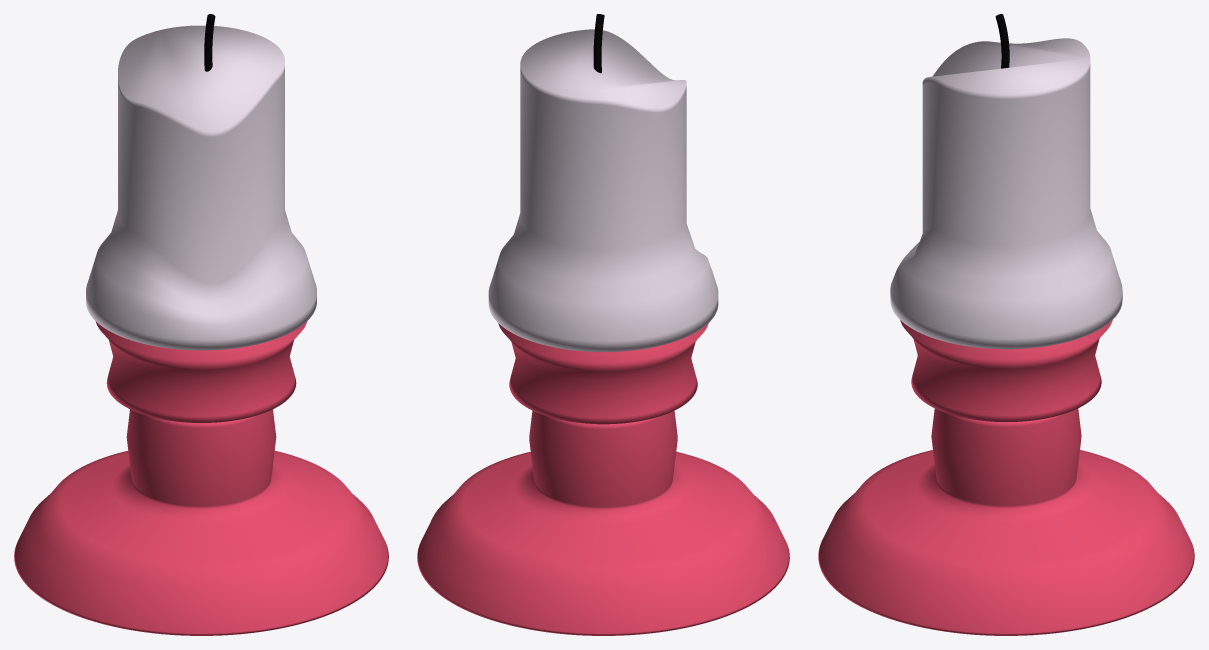
The model's file is Candle.fbx.
The picture shows the model from 3 angles, left to right: view 1: azimuth 30°, elevation 25°; view 2: azimuth 150°, elevation 25°; view 3: azimuth 270°, elevation 25°; orthographic projection.
Parts seen in each view (by area): view 1: Cylinder; view 2: Cylinder; view 3: Cylinder.
Boxes of the visible parts, x1=… form: Cylinder: x1=14, y1=14, x2=388, y2=635; Cylinder: x1=417, y1=14, x2=789, y2=635; Cylinder: x1=818, y1=14, x2=1194, y2=635.
Bounding box in the file's own units: 91.69 × 91.7 × 146.
